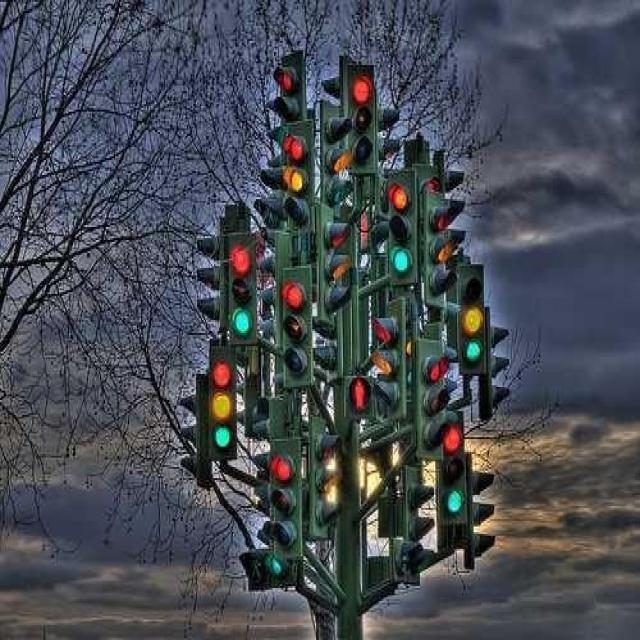Traffic Light -Green-: (388, 215, 418, 288), (388, 213, 418, 286), (441, 454, 468, 526), (227, 278, 256, 341), (210, 427, 238, 461), (461, 340, 488, 375)
Traffic Light -Red-: (415, 340, 452, 459), (269, 445, 305, 560), (419, 340, 451, 458), (279, 274, 311, 384), (349, 65, 376, 173), (387, 168, 415, 243), (439, 417, 470, 484), (442, 415, 468, 484), (228, 240, 254, 303), (212, 356, 233, 386)
Traffic Light -Yellow-: (279, 165, 314, 232), (456, 302, 488, 340), (206, 388, 236, 425)
